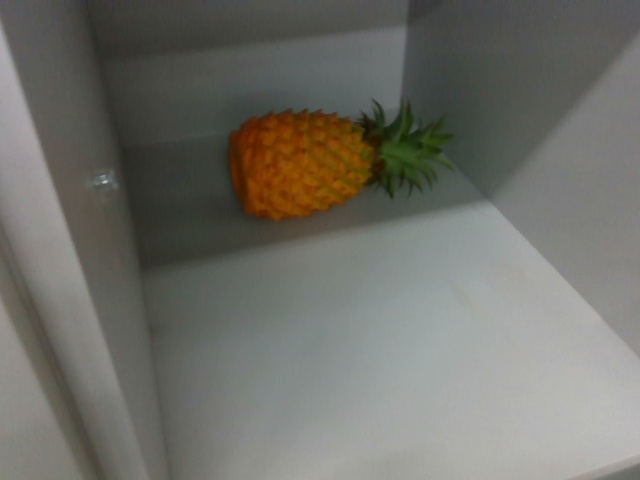pineapple: (223, 98, 460, 220)
